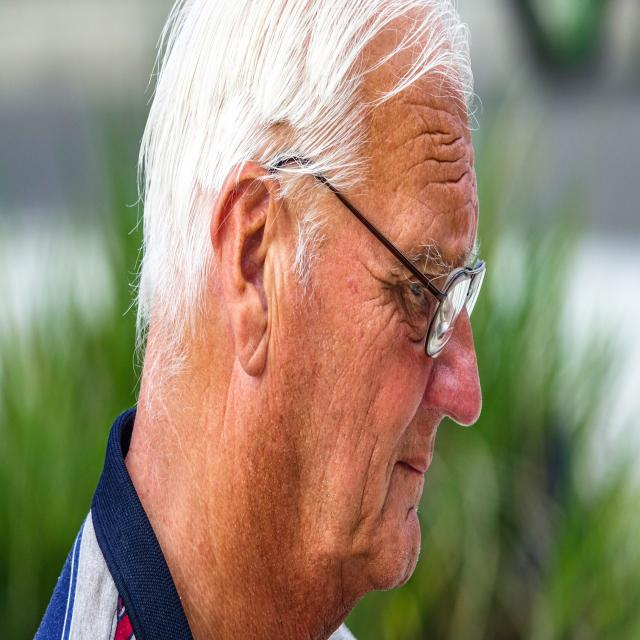front: (348, 176, 486, 582)
